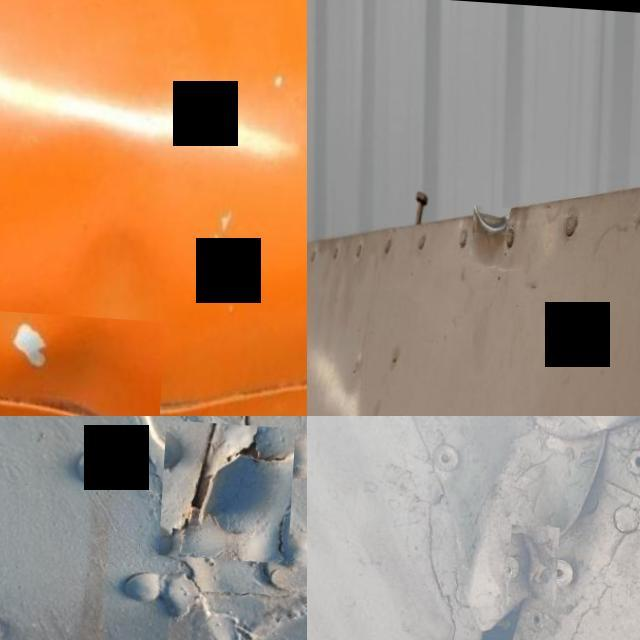Crack: (163, 416, 298, 556), (512, 520, 564, 595)
Dent: (0, 314, 162, 416), (477, 203, 512, 230)
